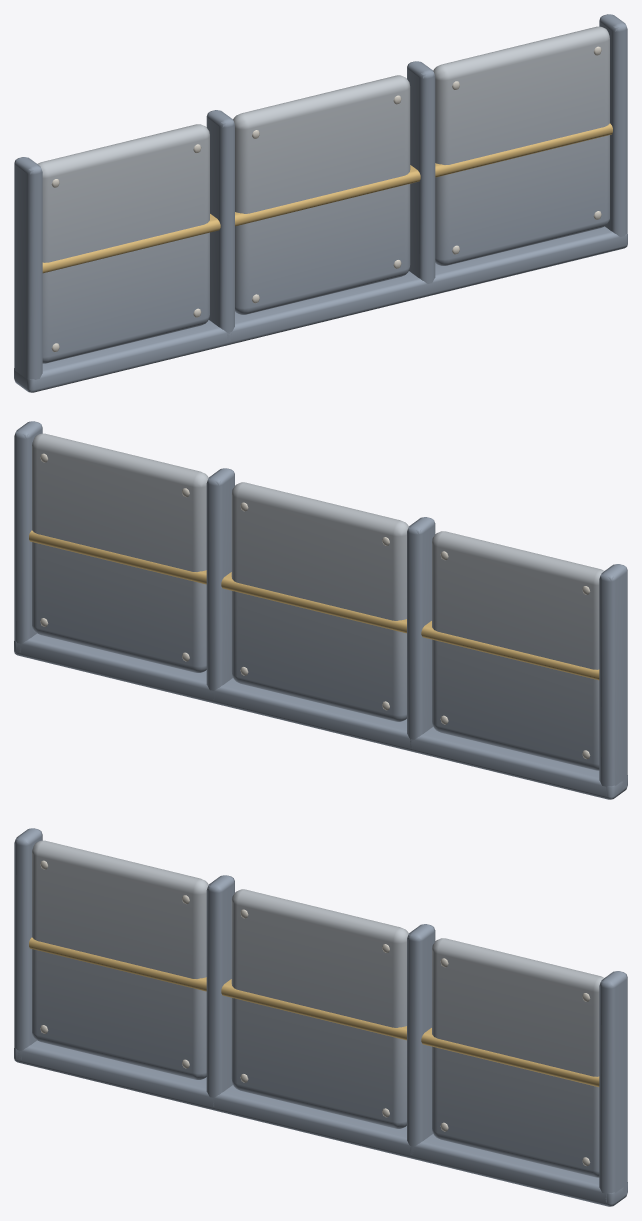
File: wall3.glb
The picture shows the model from 3 angles, top to bottom: view 1: azimuth 30°, elevation 25°; view 2: azimuth 150°, elevation 25°; view 3: azimuth 330°, elevation 25°; orthographic projection.
Parts seen in each view (by area): view 1: Body; view 2: Body; view 3: Body.
Boxes of the visible parts, x1,y1,x2,y2 form: Body: (14,14,627,392); Body: (14,421,627,799); Body: (14,828,627,1206).
Size of the model in its own units: 39 by 14 by 2.
